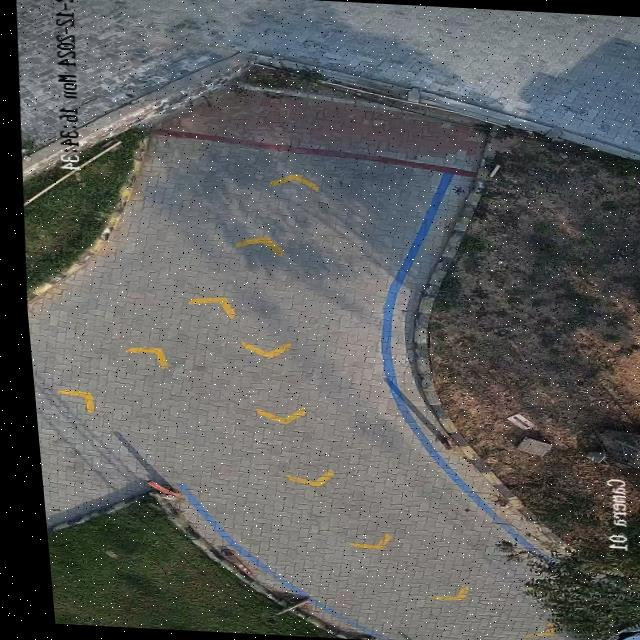No Car: (16, 0, 640, 640)
